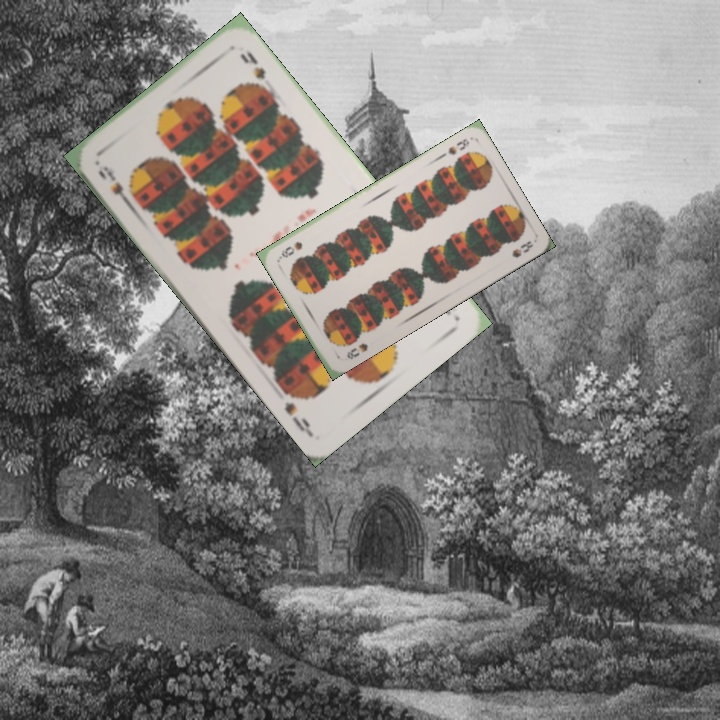S8: (443, 134, 472, 158), (342, 339, 371, 362)
S9: (93, 162, 135, 210)
